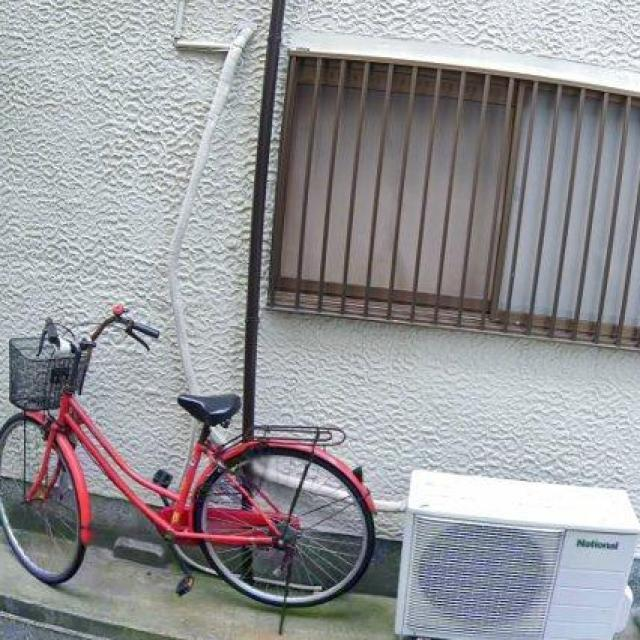bicycle: (5, 310, 385, 638)
